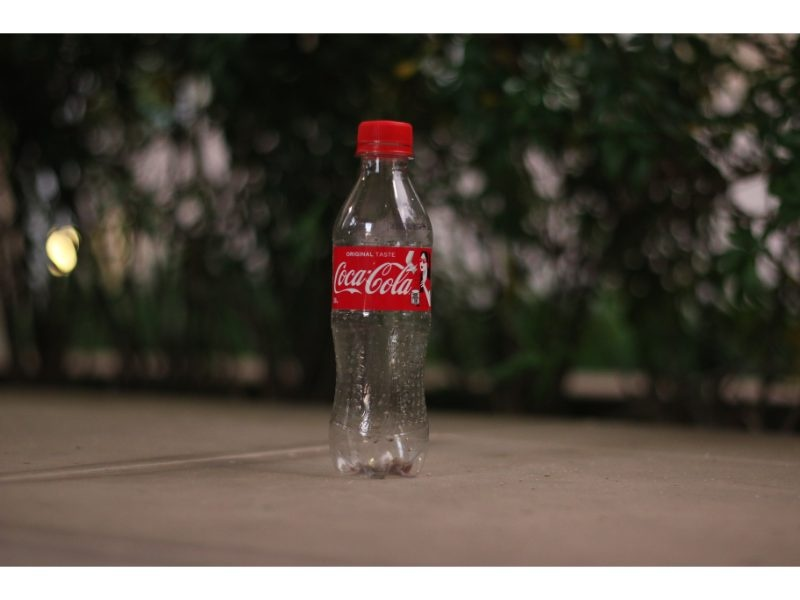PET #1: (323, 117, 437, 487)
